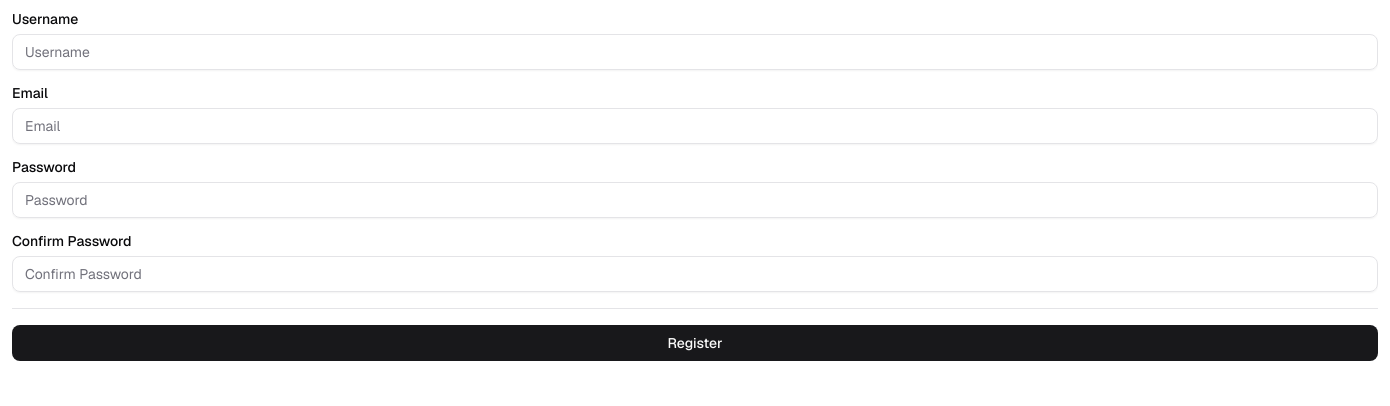
Scenario: RegisterForm - Integration Tests › handles password mismatch validation
This screenshot has width=1390, height=406.
Type "testuser" into the field with placeholder "Username".
click(695, 52); type("testuser")  # box [12, 34, 1378, 70]
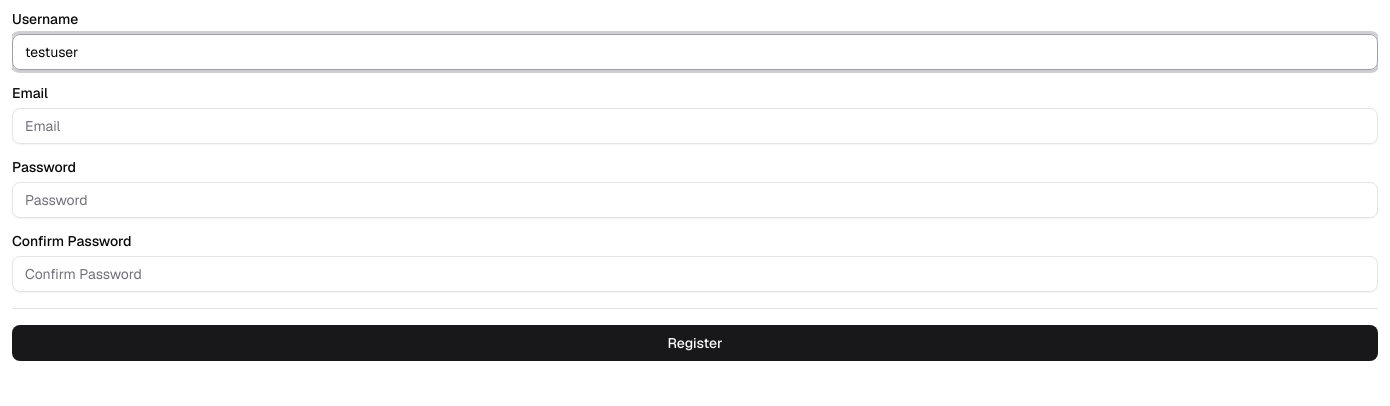
Type "test@example.com" into the field with placeholder "Email".
click(695, 126); type("test@example.com")  # box [12, 108, 1378, 144]
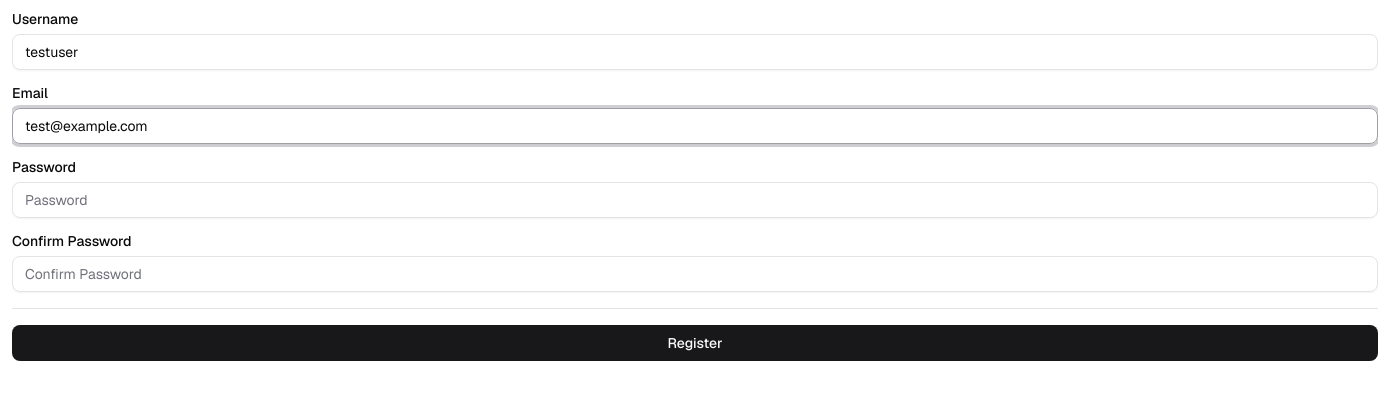
Type "password123" into the password field with placeholder "Password".
click(695, 200); type("password123")  # box [12, 182, 1378, 218]
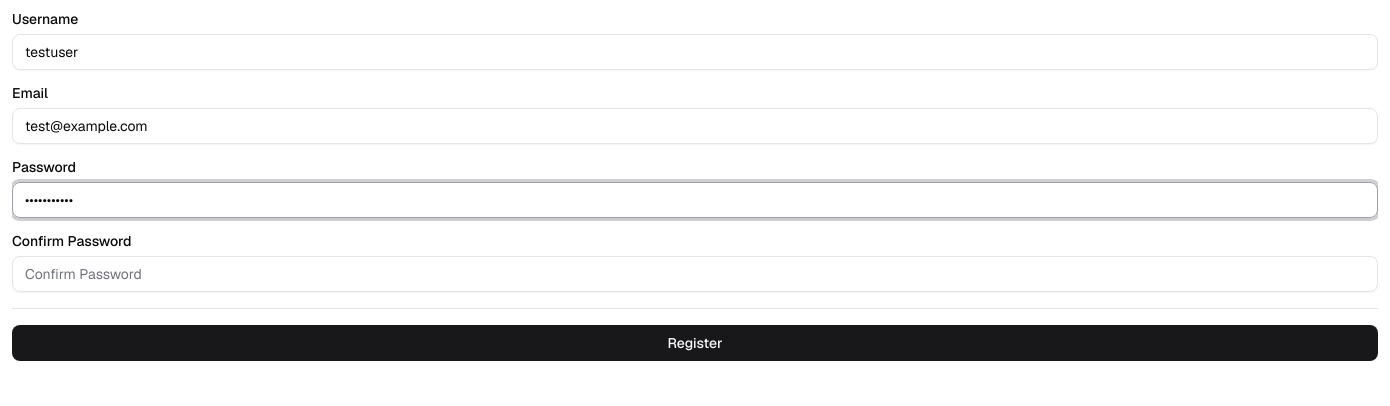
Type "different123" into the password field with placeholder "Confirm Password".
click(695, 274); type("different123")  # box [12, 256, 1378, 292]
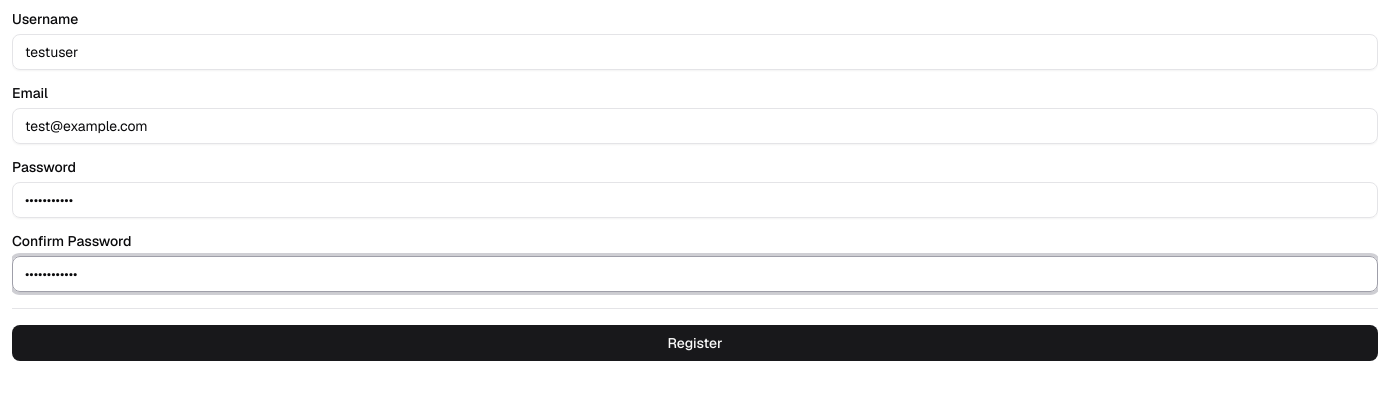
Click the button "Register".
click(695, 343)  # box [12, 325, 1378, 361]
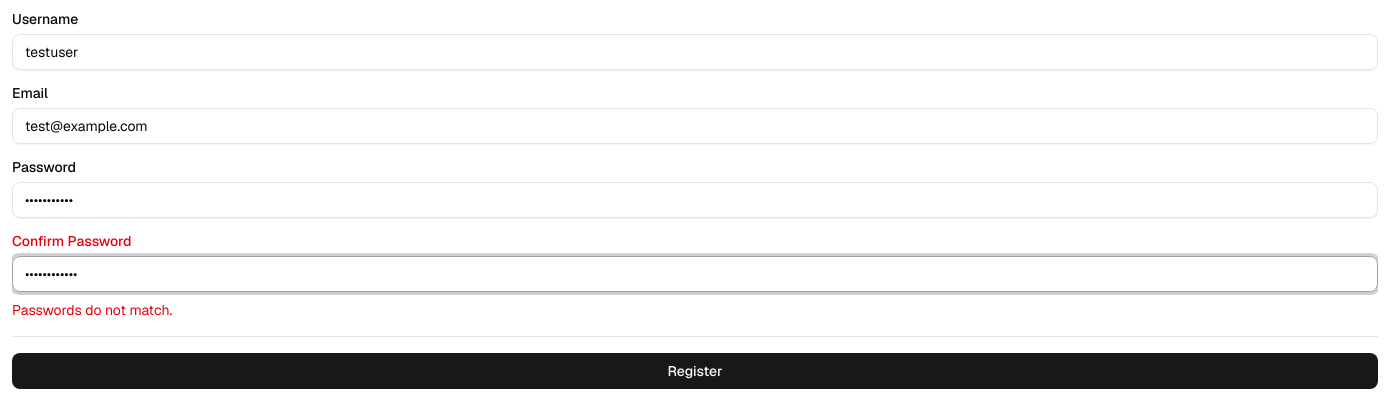
Expected: the text "Passwords do not match." is shown, [12, 301, 172, 319]
